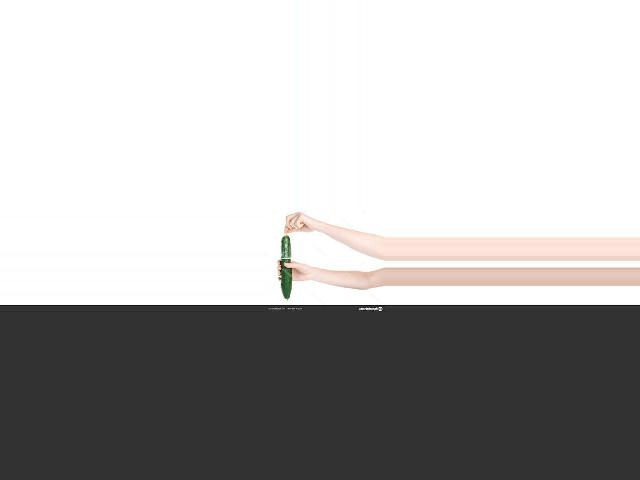cucumber: (280, 235, 290, 301)
